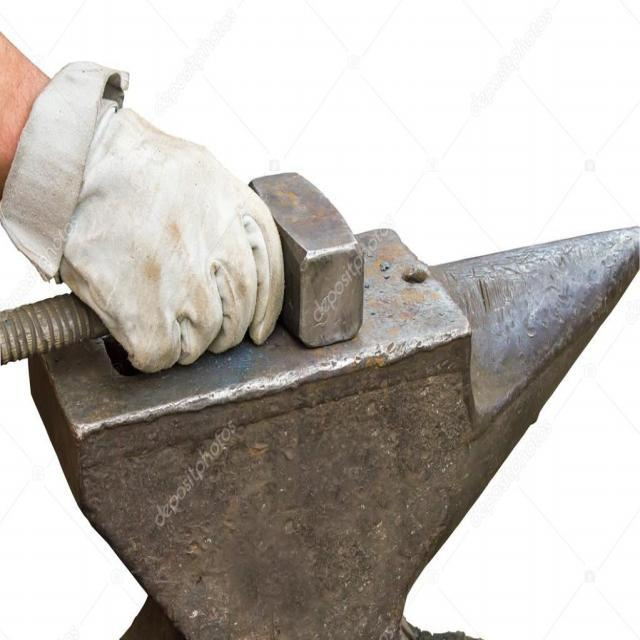hammer: (0, 164, 369, 379)
